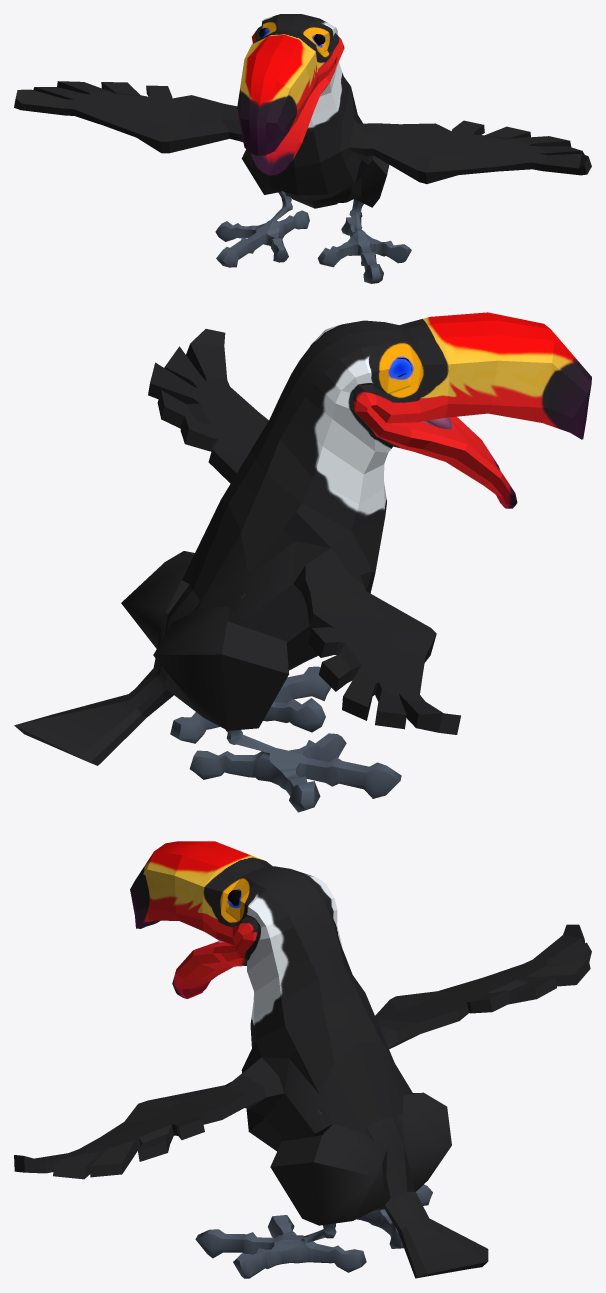
The model's file is Tucan_OBJ.obj.
3 renders of one model, top to bottom at view 1: azimuth 30°, elevation 25°; view 2: azimuth 150°, elevation 25°; view 3: azimuth 270°, elevation 25°, orthographic. The views are drawn at different scales.
Parts seen in each view (by area): view 1: Tucan_OBJ; view 2: Tucan_OBJ; view 3: Tucan_OBJ.
Boxes of the visible parts, x1,y1,x2,y2 form: Tucan_OBJ: [14, 14, 591, 283]; Tucan_OBJ: [14, 312, 591, 812]; Tucan_OBJ: [14, 841, 591, 1278].
Bounding box in the file's own units: 0.782 × 0.5181 × 0.7918.
4 materials, 1 textured.
